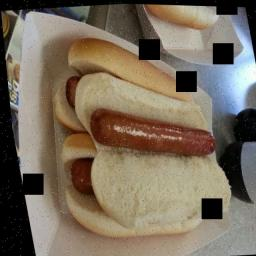hotdog: (84, 106, 180, 155), (123, 124, 217, 168), (54, 74, 86, 116), (62, 160, 94, 199)
